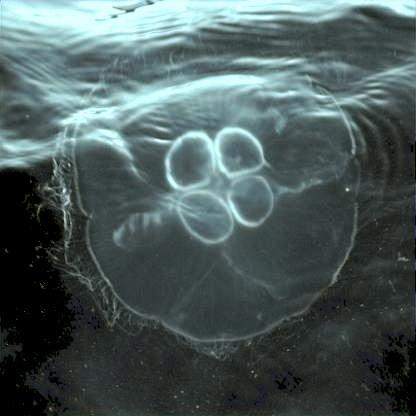Speckle: (58, 57, 364, 347)
